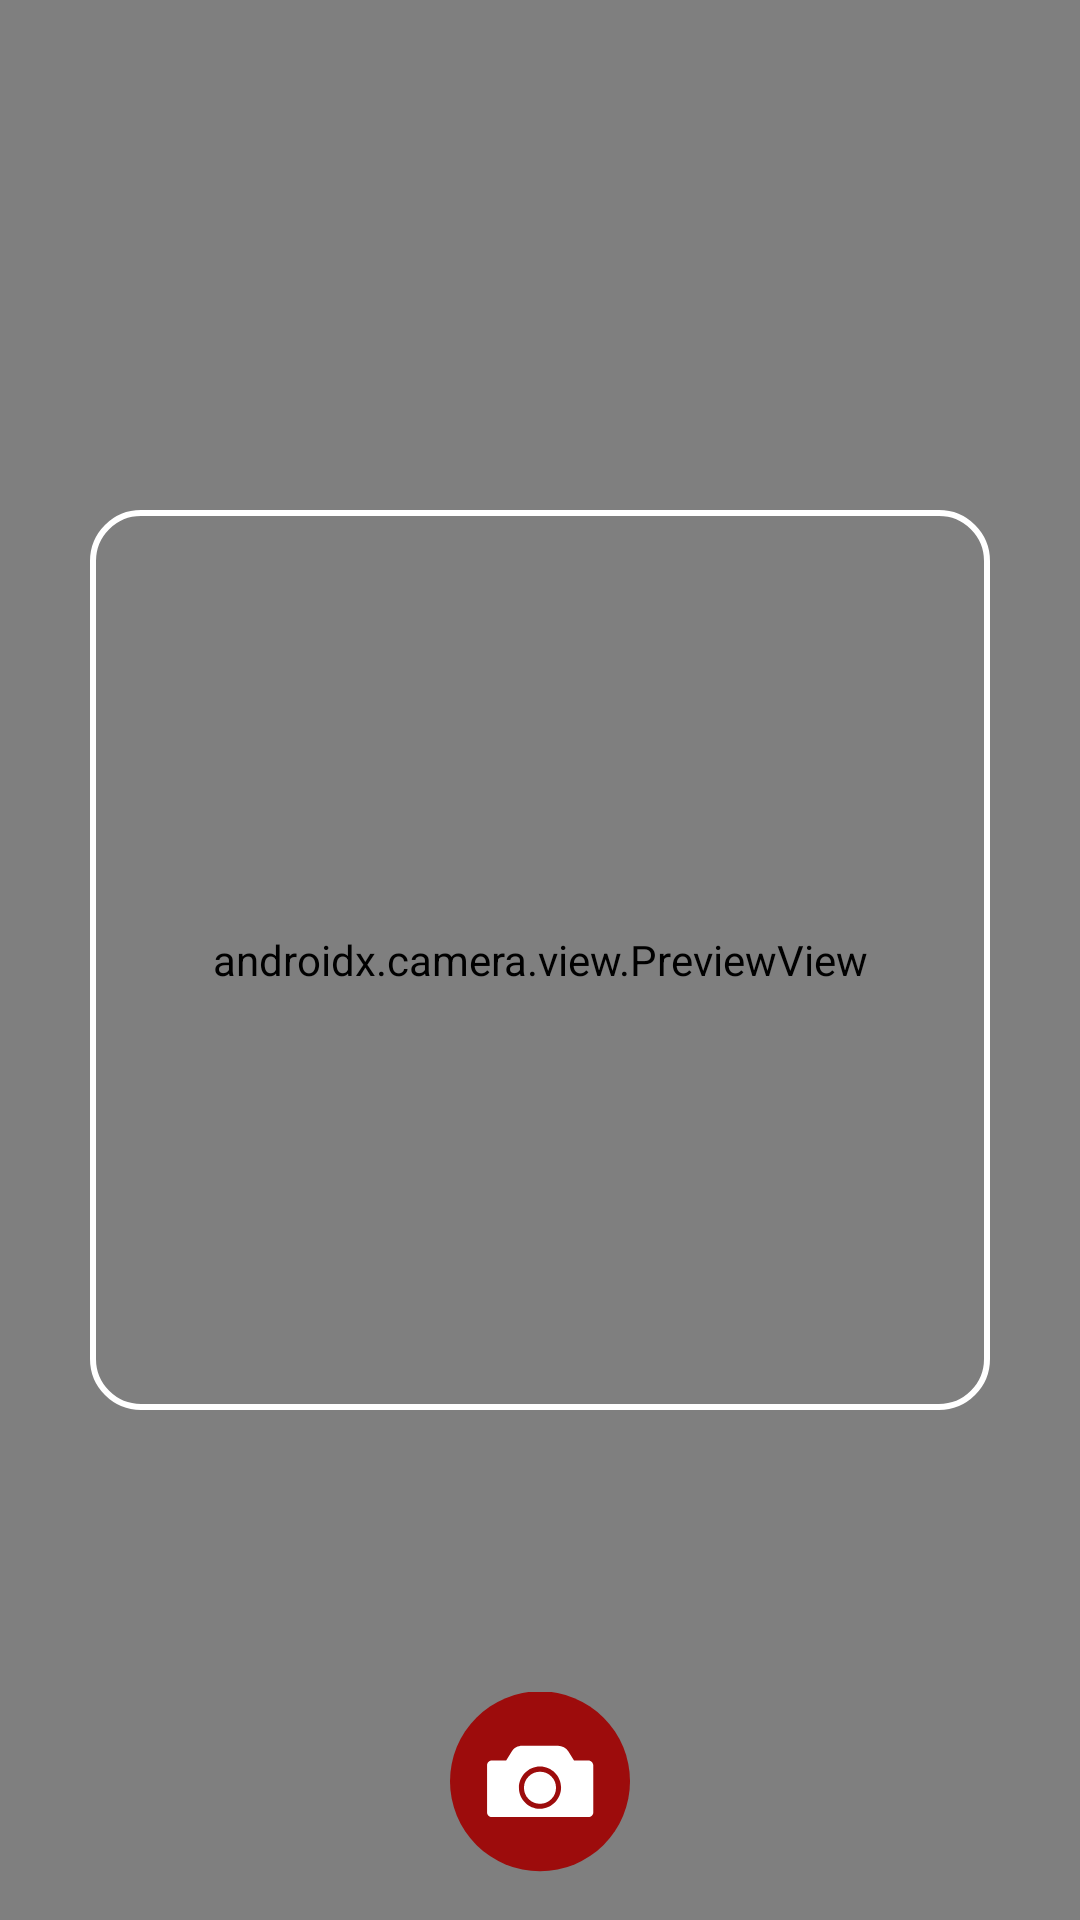

Where to tap for icons on this 1080px x 1920px app screen, as [x,y]:
capture: [540,1782]
